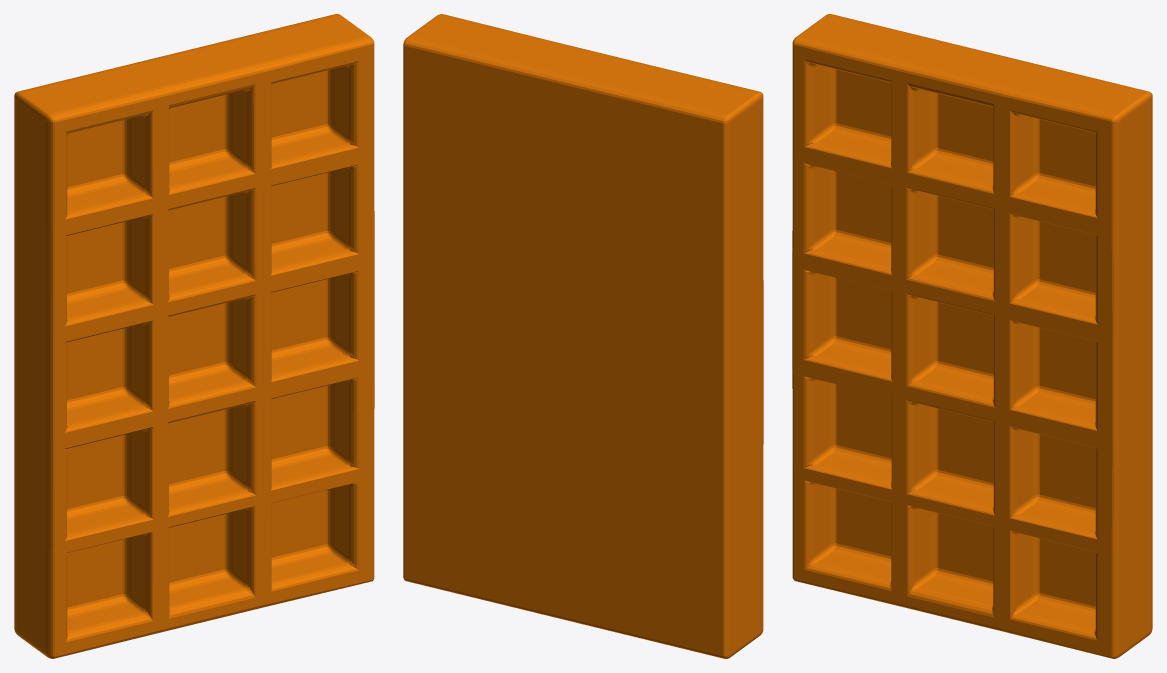
File: BigShelf.fbx
The picture shows the model from 3 angles, left to right: view 1: azimuth 30°, elevation 25°; view 2: azimuth 150°, elevation 25°; view 3: azimuth 330°, elevation 25°; orthographic projection.
Parts seen in each view (by area): view 1: BigShelf; view 2: BigShelf; view 3: BigShelf.
Part boxes in pixels (x1,y1,x2,y2): BigShelf: (14, 14, 374, 658); BigShelf: (403, 14, 763, 658); BigShelf: (792, 14, 1152, 658).
Size of the model in its own units: 481 by 766 by 100.
